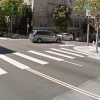crosswalk: (0, 48, 85, 75)
